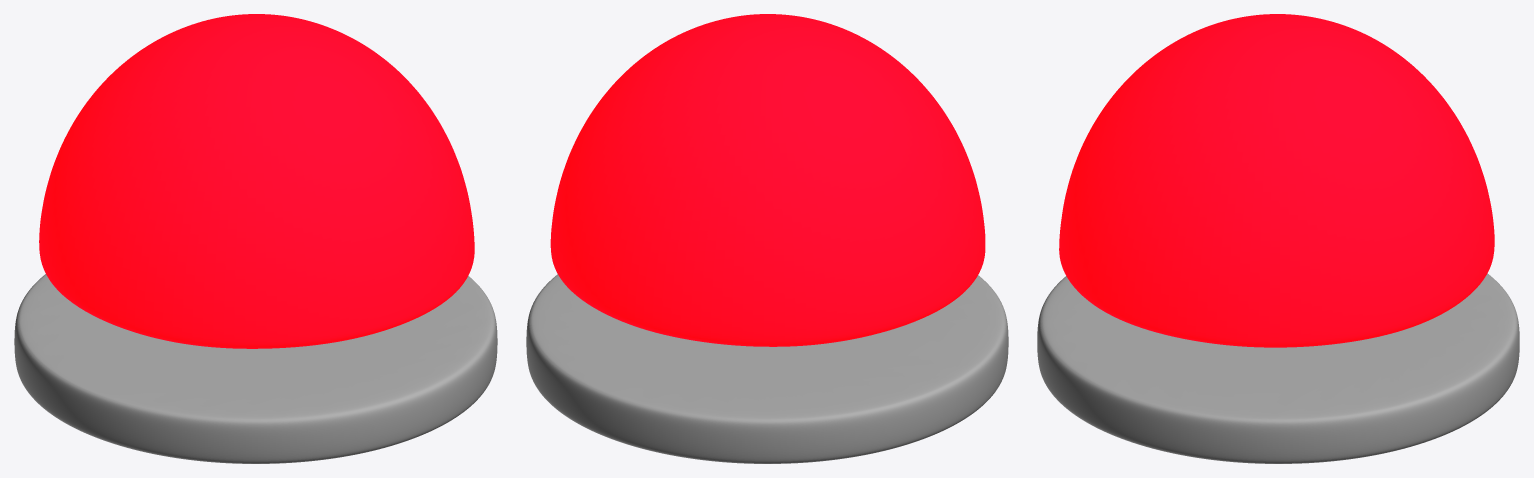
The model's file is Button.fbx.
The picture shows the model from 3 angles, left to right: view 1: azimuth 30°, elevation 25°; view 2: azimuth 150°, elevation 25°; view 3: azimuth 270°, elevation 25°; orthographic projection.
Visible parts, largest first — view 1: Circle; view 2: Circle; view 3: Circle.
Part boxes in pixels (bbox=[...]): Circle: bbox=[14, 14, 497, 463]; Circle: bbox=[526, 14, 1008, 463]; Circle: bbox=[1037, 14, 1519, 463].
Size of the model in its own units: 199 by 152 by 199.
